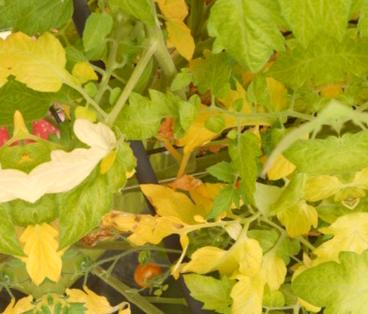Tomato leaf yellow virus: (93, 172, 211, 260), (191, 0, 296, 85), (2, 19, 77, 104), (275, 244, 366, 314), (36, 216, 68, 286)
